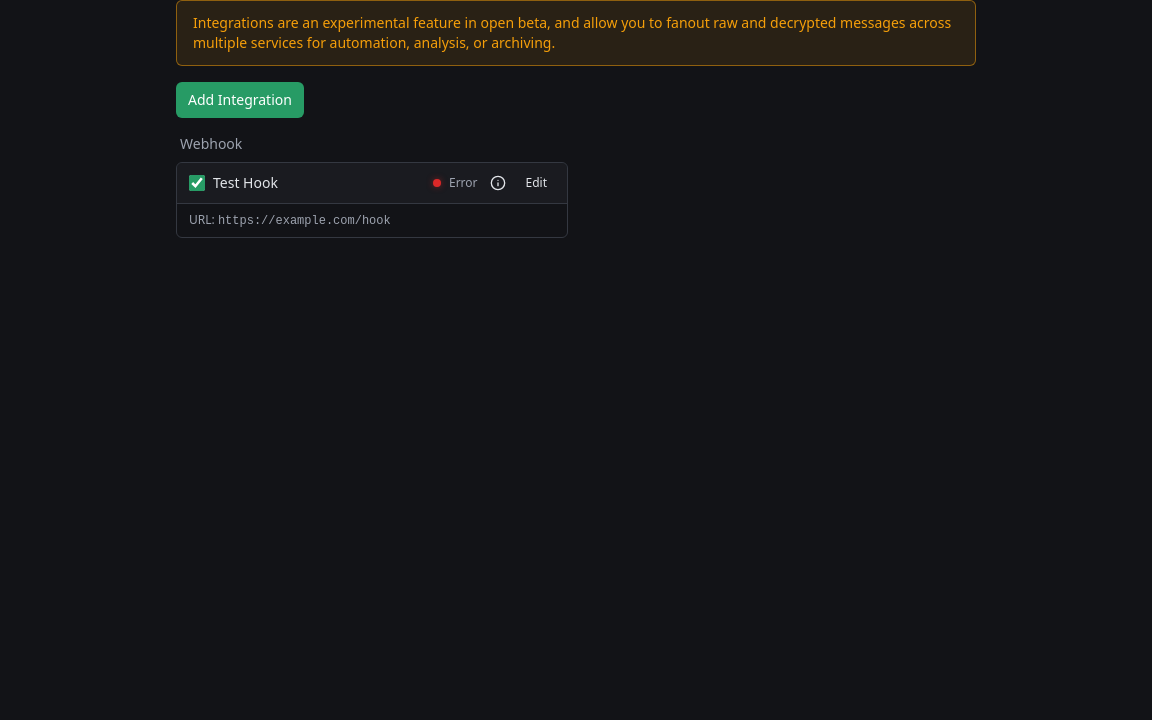
SettingsFanoutSection › shows an error info button and dialog when the integration has a retained error
Expected: the button "Test Hook" is shown, x1=213 y1=173 x2=278 y2=193
Click the button named "View error details for Test Hook" at [498, 183], box x1=486 y1=171 x2=510 y2=195
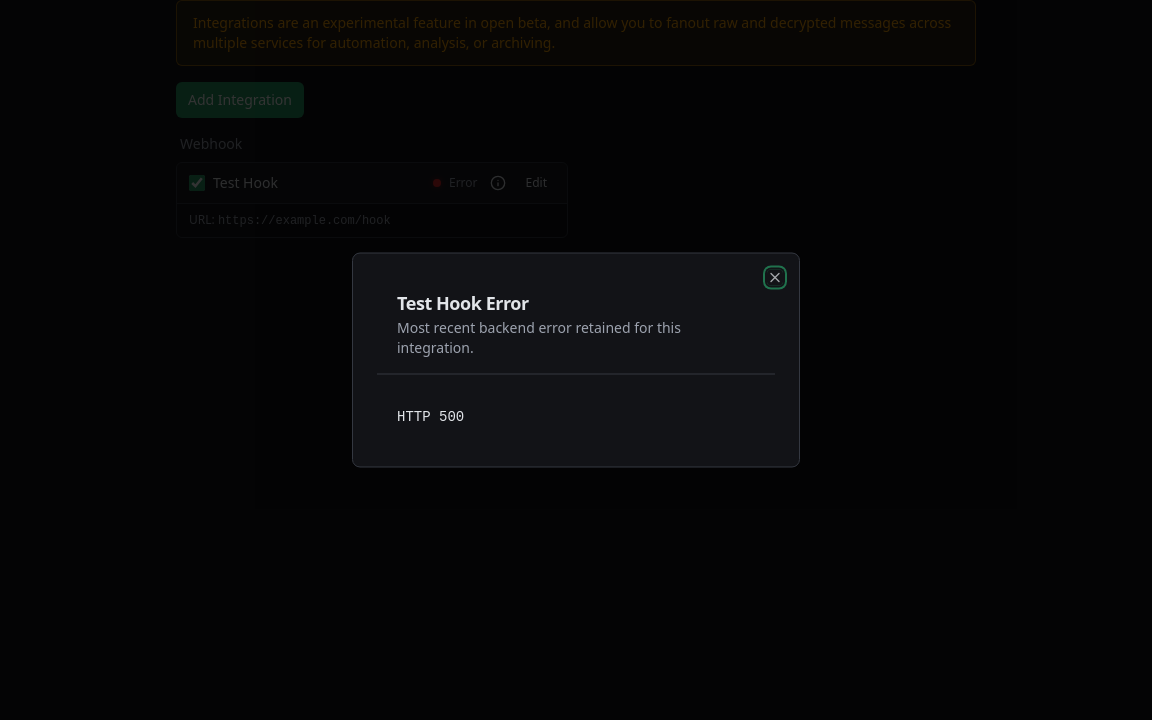
Now the dialog "Test Hook Error" is shown, box x1=352 y1=252 x2=800 y2=468
Now the text "HTTP 500" is shown, box x1=397 y1=408 x2=464 y2=424
